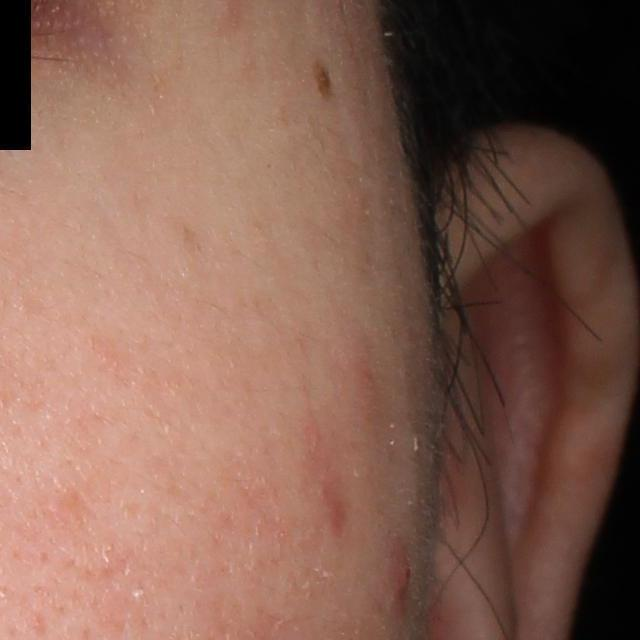nevus: (310, 59, 334, 108)
papule: (391, 540, 419, 603)
